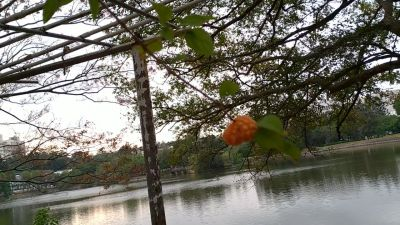eggs: (222, 114, 258, 148)
